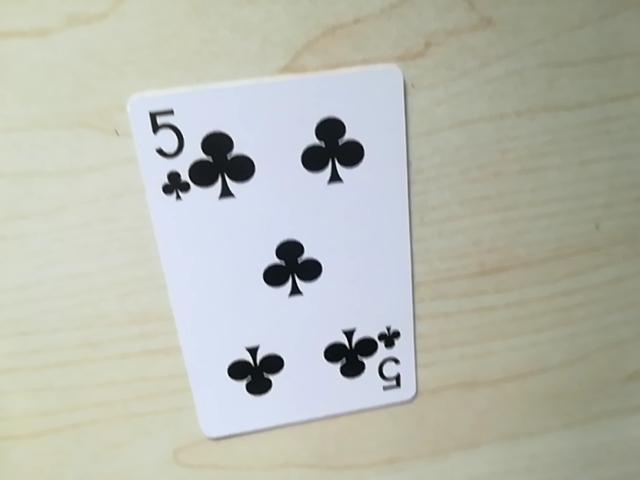mh 5: (144, 95, 195, 207), (369, 327, 407, 398)
